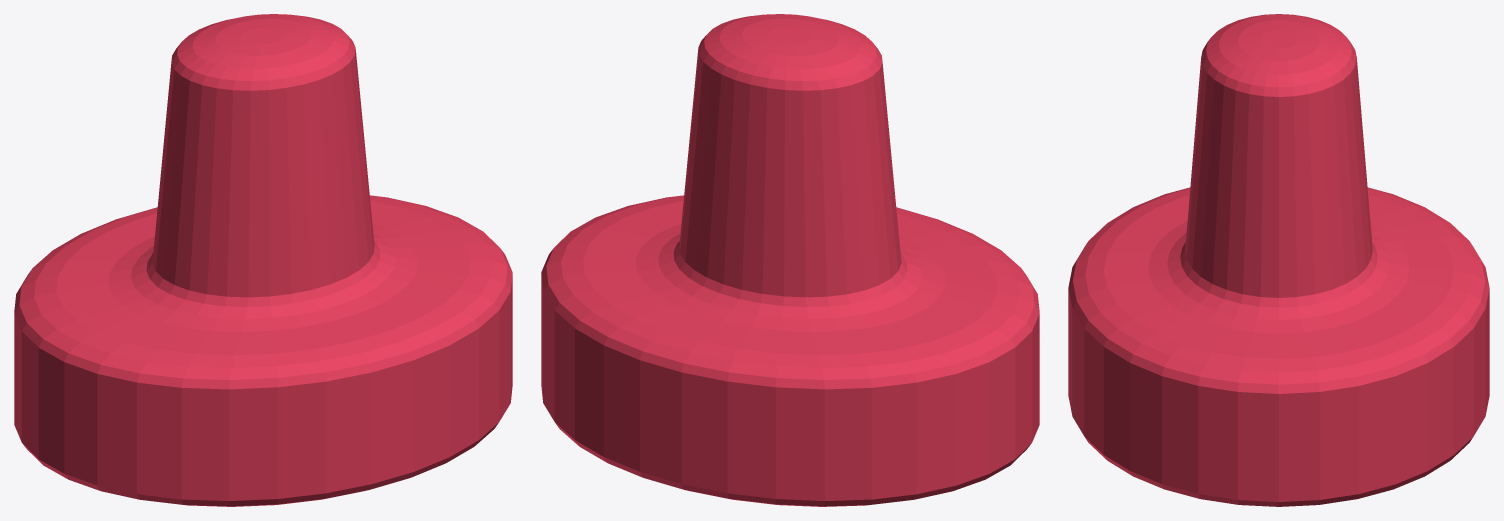
File: Paddle.glb
The picture shows the model from 3 angles, left to right: view 1: azimuth 30°, elevation 25°; view 2: azimuth 150°, elevation 25°; view 3: azimuth 270°, elevation 25°; orthographic projection. The views are drawn at different scales.
Parts seen in each view (by area): view 1: Paddle; view 2: Paddle; view 3: Paddle.
Part boxes in pixels (left/top/right/bottom): Paddle: left=14, top=14, right=512, bottom=506; Paddle: left=541, top=14, right=1039, bottom=506; Paddle: left=1068, top=14, right=1489, bottom=506.
Bounding box in the file's own units: 0.9539 × 0.7864 × 0.8.
